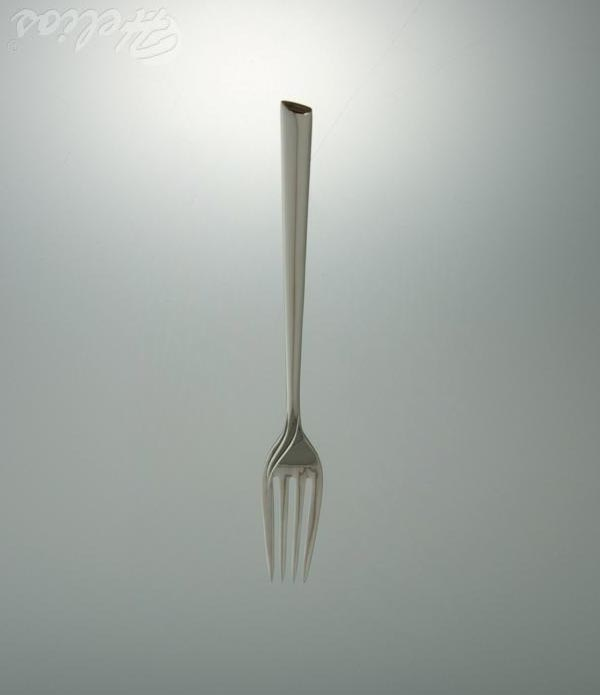Widelec: (248, 433, 331, 586)
